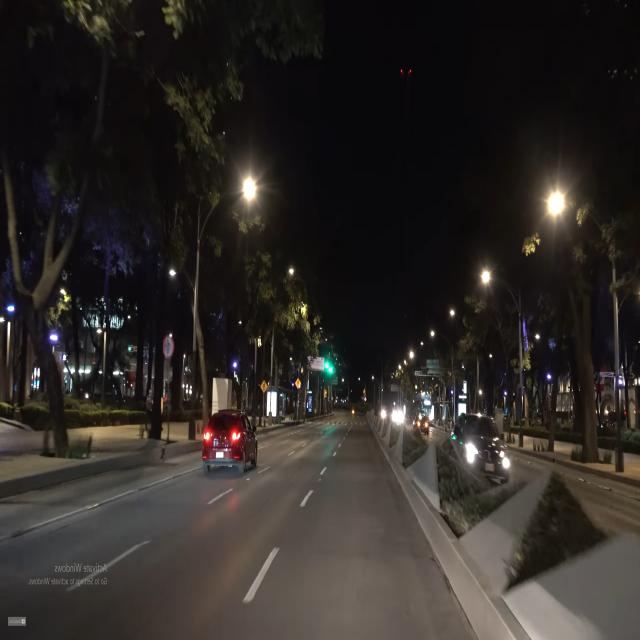headlights: (453, 440, 515, 474)
